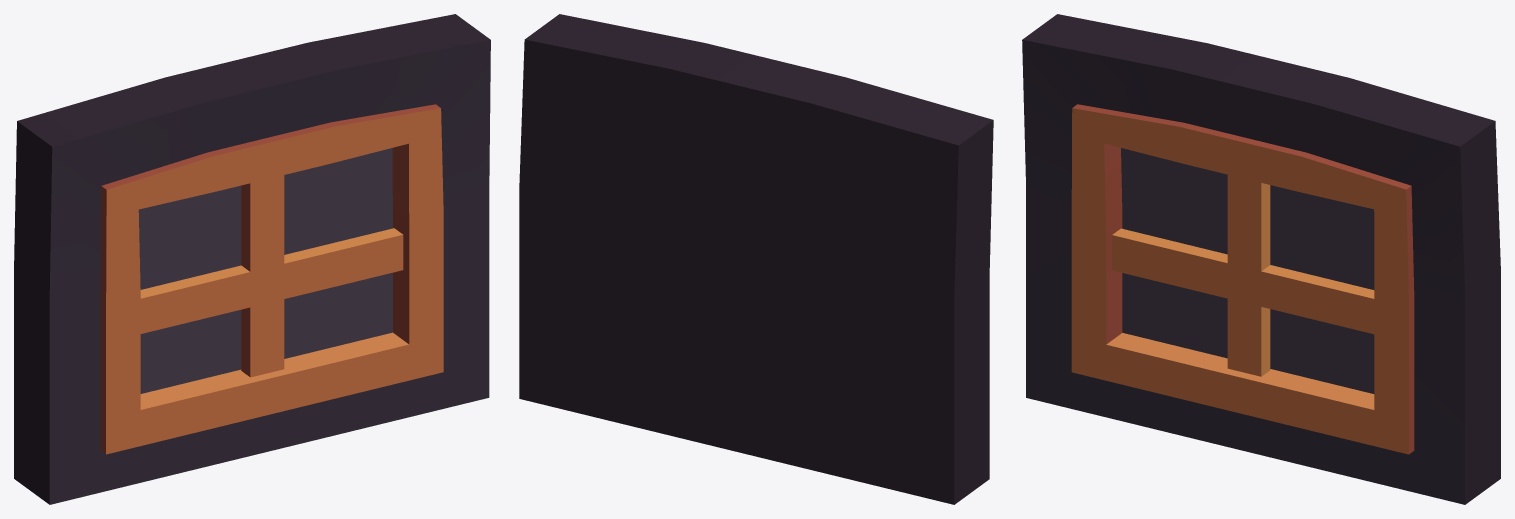
Rendered from Window02_Black_Wood.glb.
3 renders of one model, left to right at view 1: azimuth 30°, elevation 25°; view 2: azimuth 150°, elevation 25°; view 3: azimuth 330°, elevation 25°, orthographic.
Parts seen in each view (by area): view 1: Window02_Black_Wood; view 2: Window02_Black_Wood; view 3: Window02_Black_Wood.
Part boxes in pixels (x1,y1,x2,y2): Window02_Black_Wood: (14, 14, 490, 504); Window02_Black_Wood: (519, 14, 993, 504); Window02_Black_Wood: (1022, 14, 1500, 504).
Size of the model in its own units: 0.9012 by 0.7186 by 0.1456.
1 material, 1 textured.
